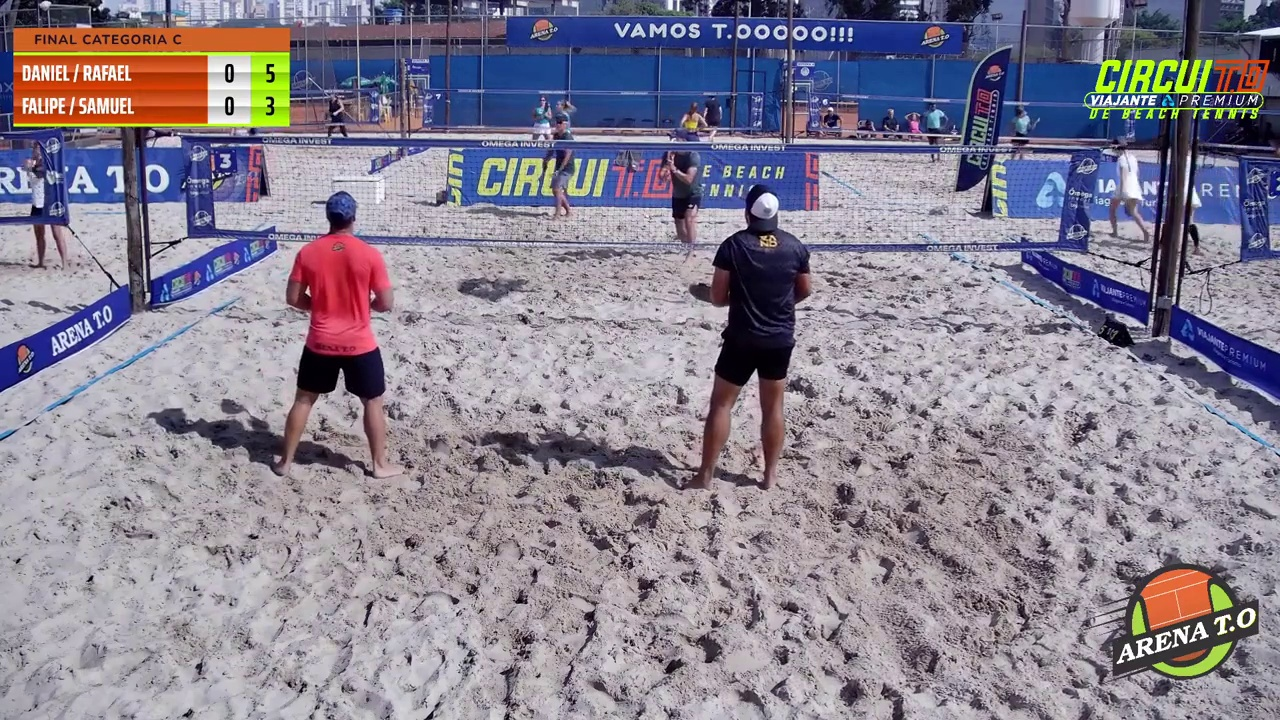court_line: (634, 0, 802, 510)
